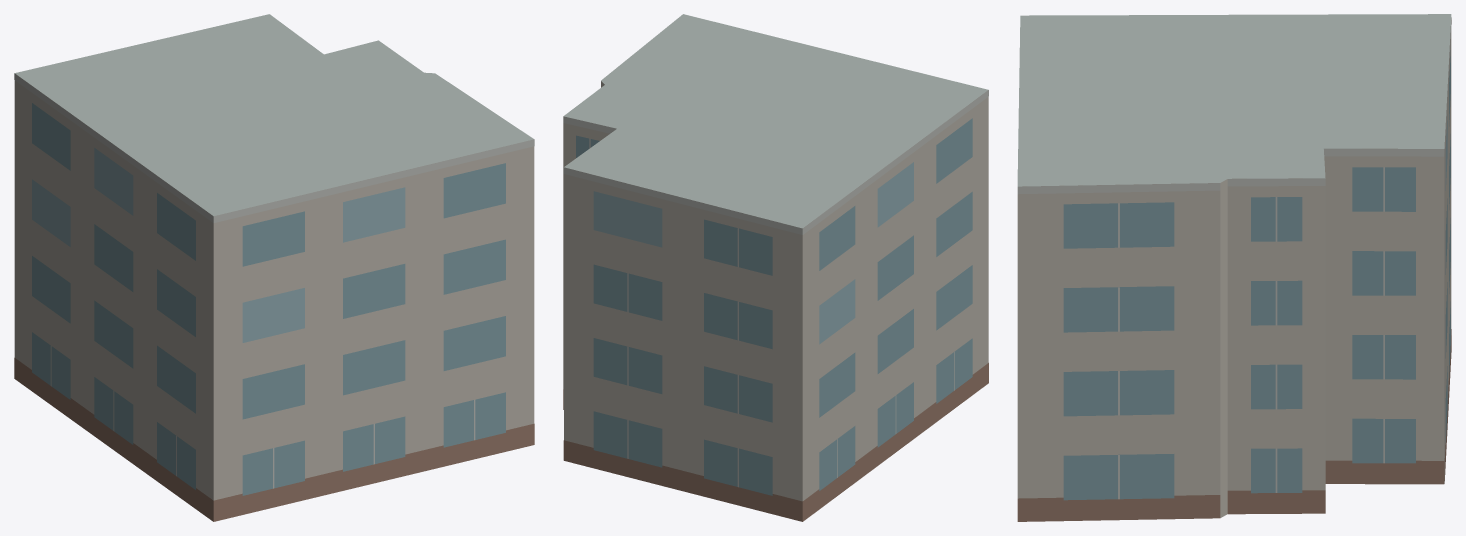
File: survey-upis-32948059.glb
3 renders of one model, left to right at view 1: azimuth 30°, elevation 25°; view 2: azimuth 150°, elevation 25°; view 3: azimuth 270°, elevation 25°, orthographic. The views are drawn at different scales.
Visible parts, largest first — view 1: survey-upis-32948059.tmp; view 2: survey-upis-32948059.tmp; view 3: survey-upis-32948059.tmp.
Boxes of the visible parts, x1=… form: survey-upis-32948059.tmp: x1=14, y1=14, x2=534, y2=521; survey-upis-32948059.tmp: x1=563, y1=14, x2=988, y2=521; survey-upis-32948059.tmp: x1=1017, y1=14, x2=1451, y2=521.
Bounding box in the file's own units: 11.82 × 10.7 × 12.56.
